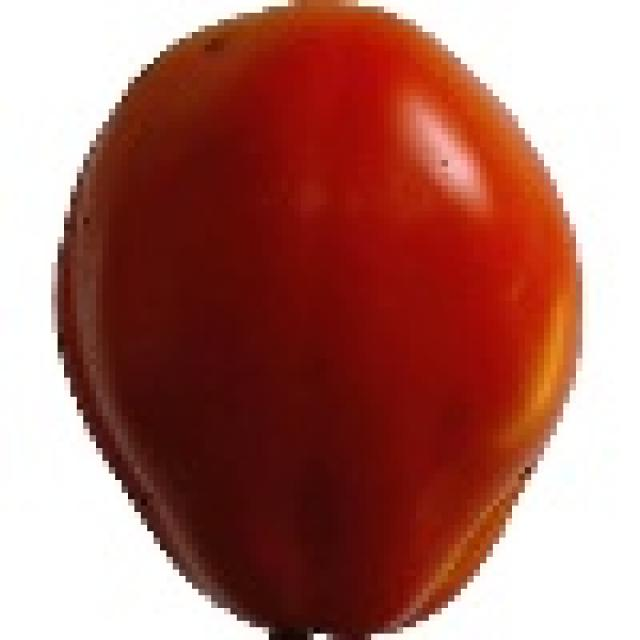tomato: (41, 0, 594, 640)
